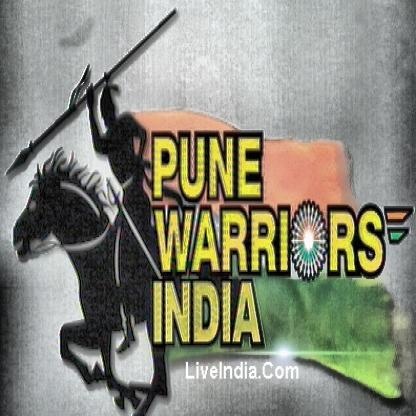Pune Warriors: (3, 0, 416, 416)
